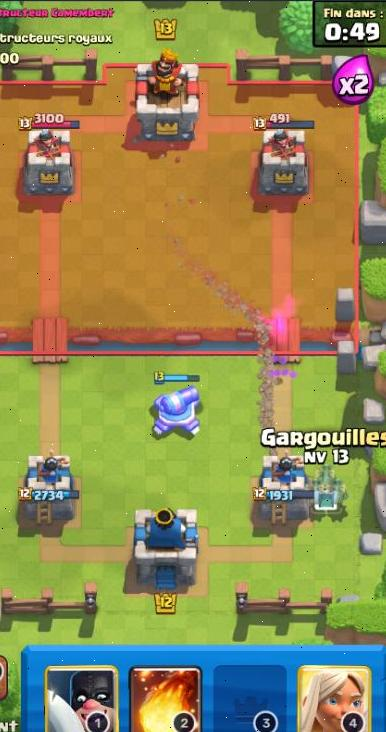enemy_miner_trail: (155, 197, 282, 442)
player_cannon: (147, 365, 210, 445)
